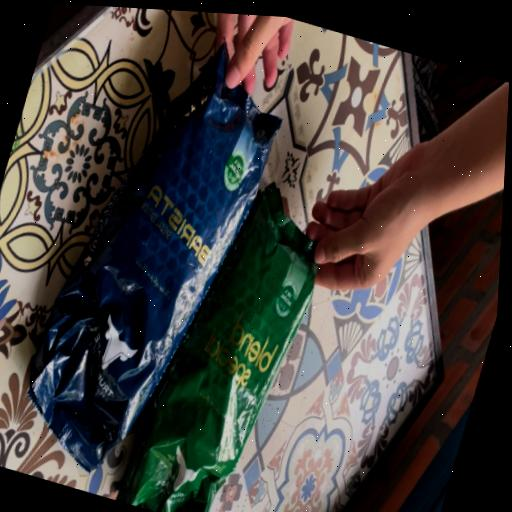cafe_hat: (31, 48, 279, 468)
cafe_xay: (116, 184, 315, 512)
